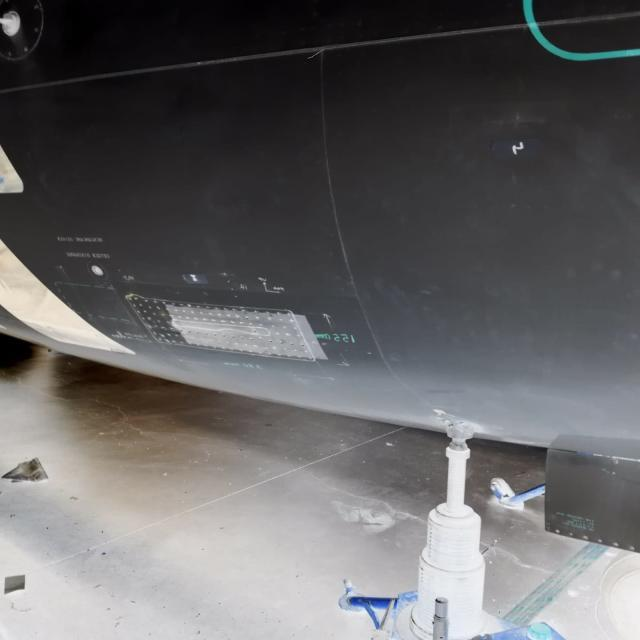crack: (304, 50, 329, 61)
